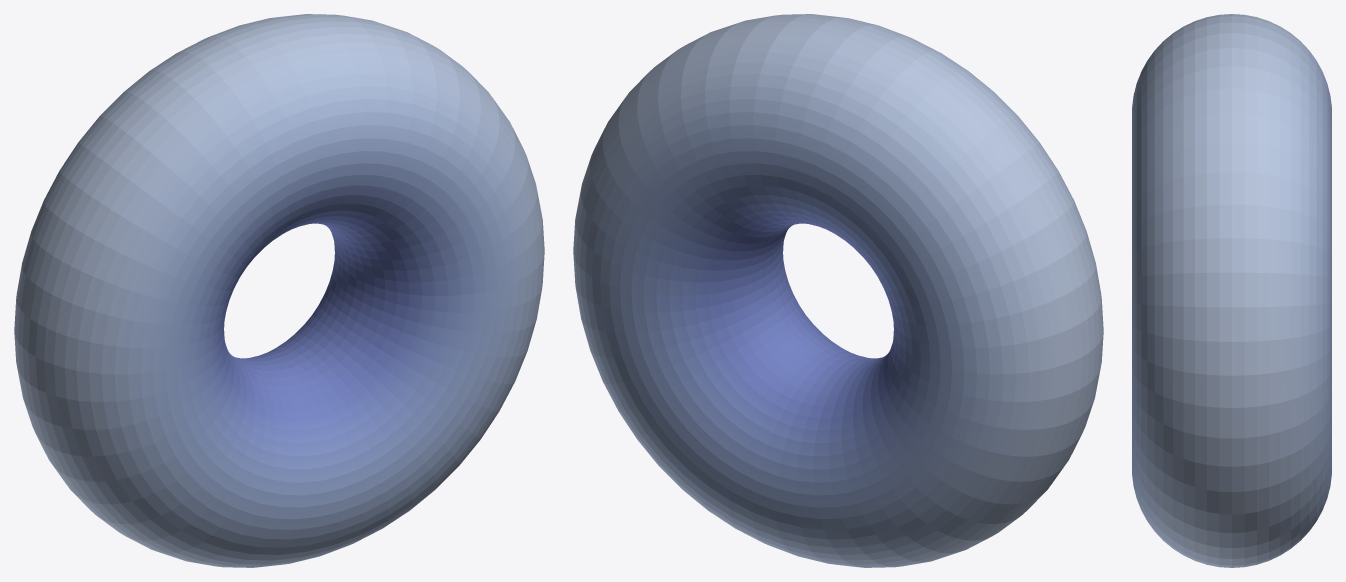
3 views of the same model, side by side, from view 1: azimuth 30°, elevation 25°; view 2: azimuth 150°, elevation 25°; view 3: azimuth 270°, elevation 25° (orthographic). The views are drawn at different scales.
Visible parts, largest first — view 1: world; view 2: world; view 3: world.
Part boxes in pixels (bbox=[...]): world: bbox=[14, 14, 544, 567]; world: bbox=[573, 14, 1103, 567]; world: bbox=[1132, 14, 1331, 567].
Bounding box in the file's own units: 18.8 × 18.76 × 6.79.
